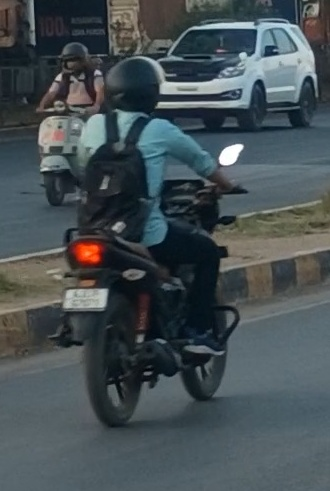BikeWithRider: (41, 49, 254, 433), (28, 36, 113, 209)
Helmet: (98, 51, 169, 120), (53, 37, 94, 75)
